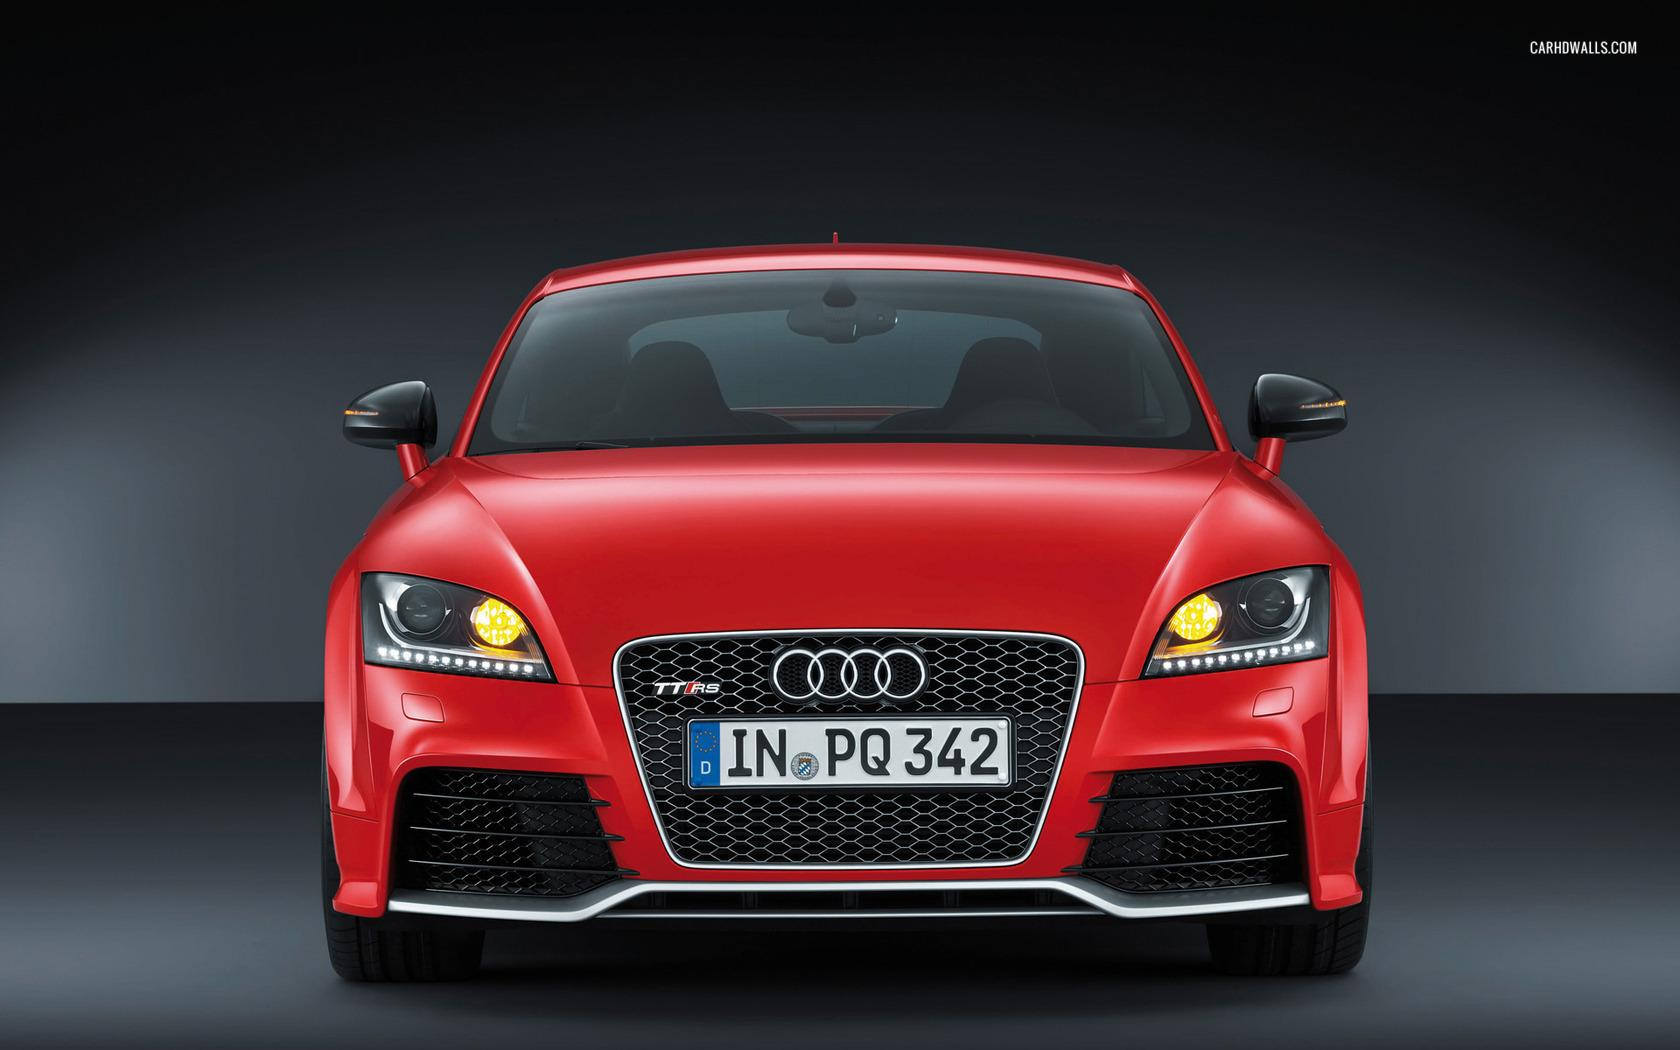Audi: (749, 625, 946, 714)
